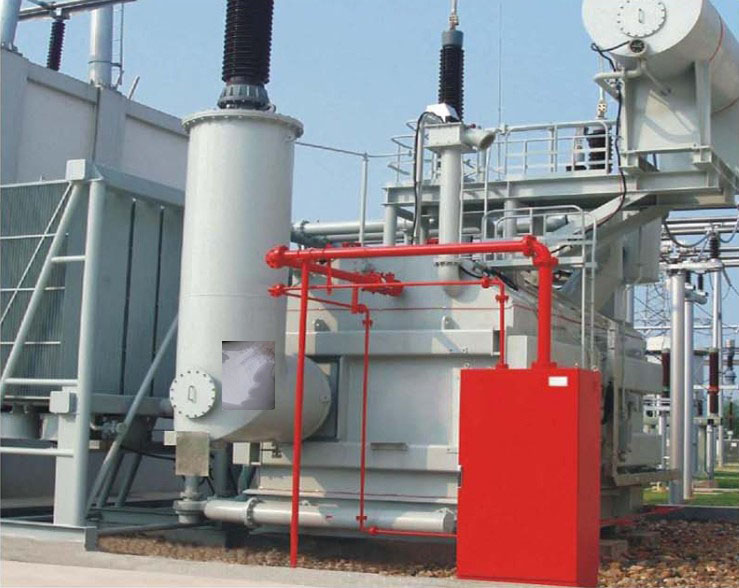oil: (637, 520, 696, 567)
